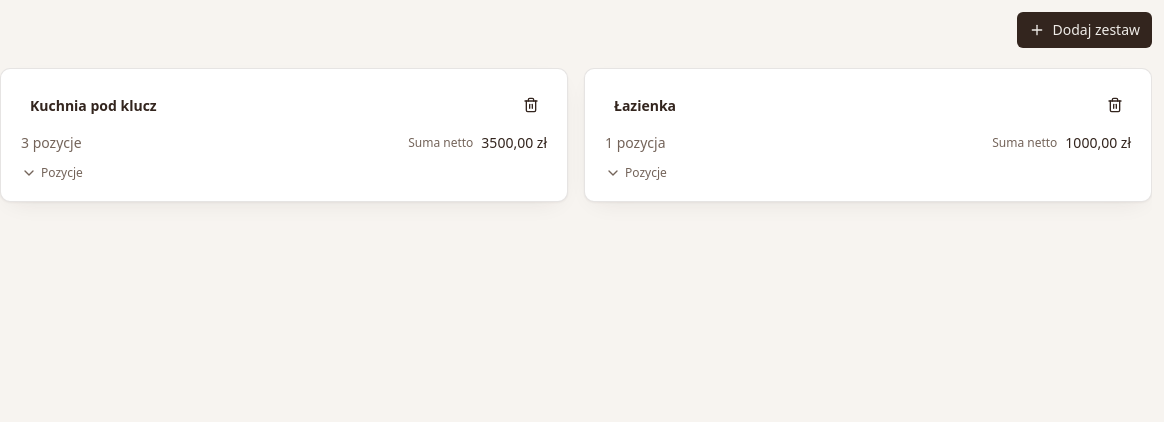
Test: LibraryGroupsTab — zawartosc zestawu › rozwija tylko wskazany zestaw, nie wszystkie
This screenshot has width=1164, height=422.
Click the button "Pozycje" below "3 pozycje". click: (52, 173)
box: [21,165,83,181]
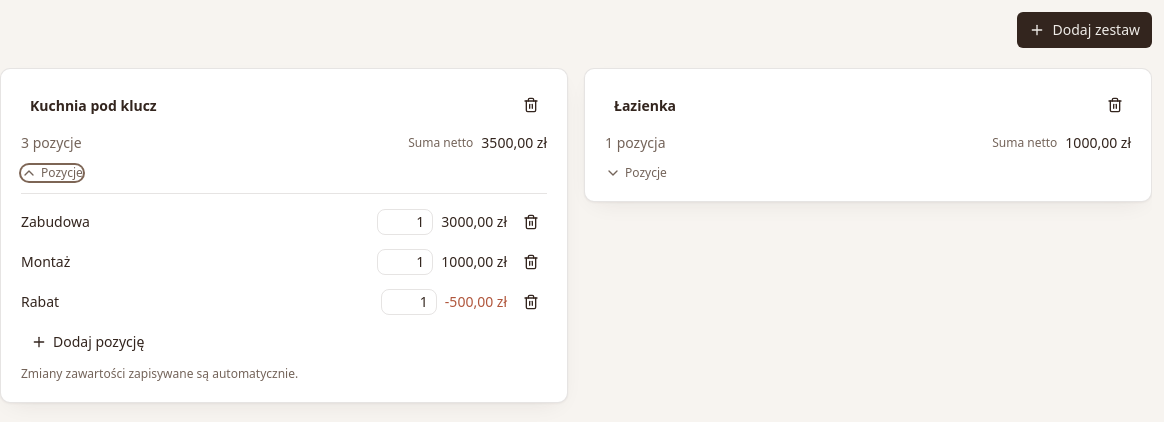
Now the text "Zabudowa" is shown, box [21,212,90,231]
Now the number of buttons named "Dodaj pozycję do zestawu" is 1, box [21,326,154,358]
